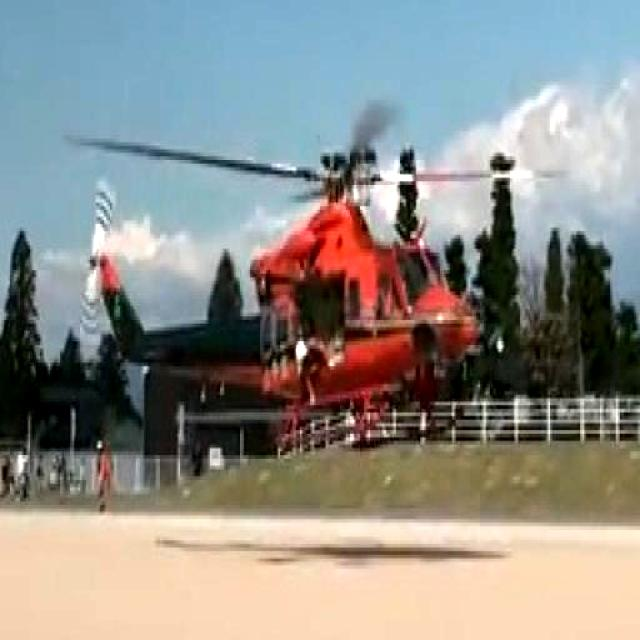drone: (58, 124, 500, 434)
